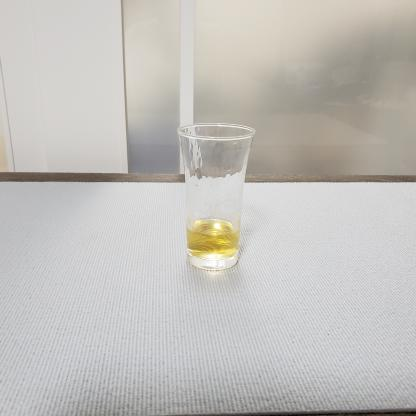glass: (169, 112, 259, 279)
